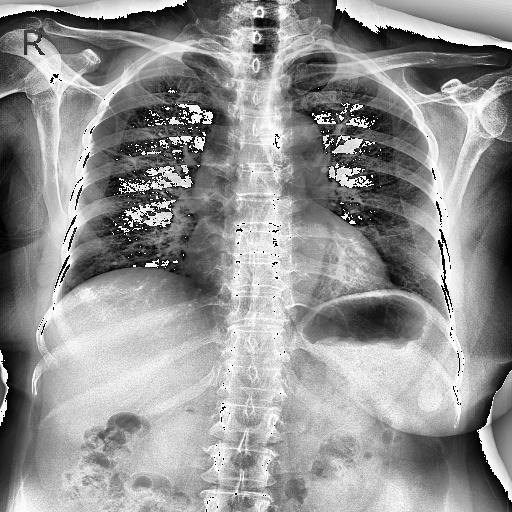0- Aortic enlargement: (265, 110, 327, 192), (270, 109, 326, 175), (269, 110, 327, 170)
13- Pulmonary fibrosis: (86, 142, 138, 166), (87, 142, 138, 166), (96, 142, 138, 162)
3- Cardiomegaly: (183, 246, 392, 306)
